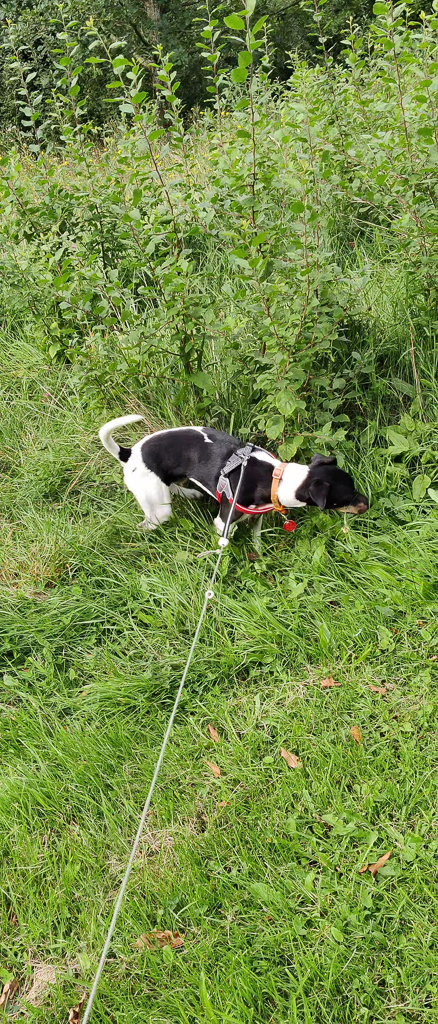Dog: (77, 399, 387, 553)
